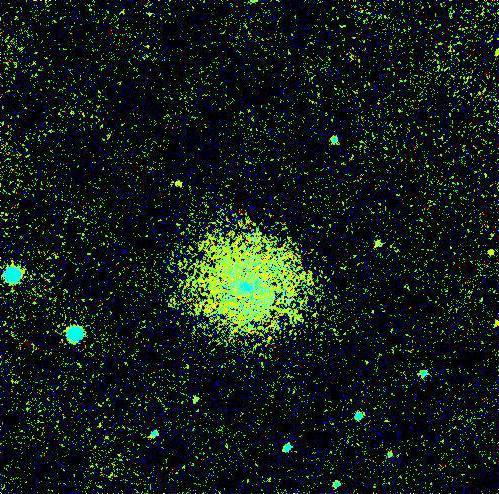star: (165, 166, 195, 196)
